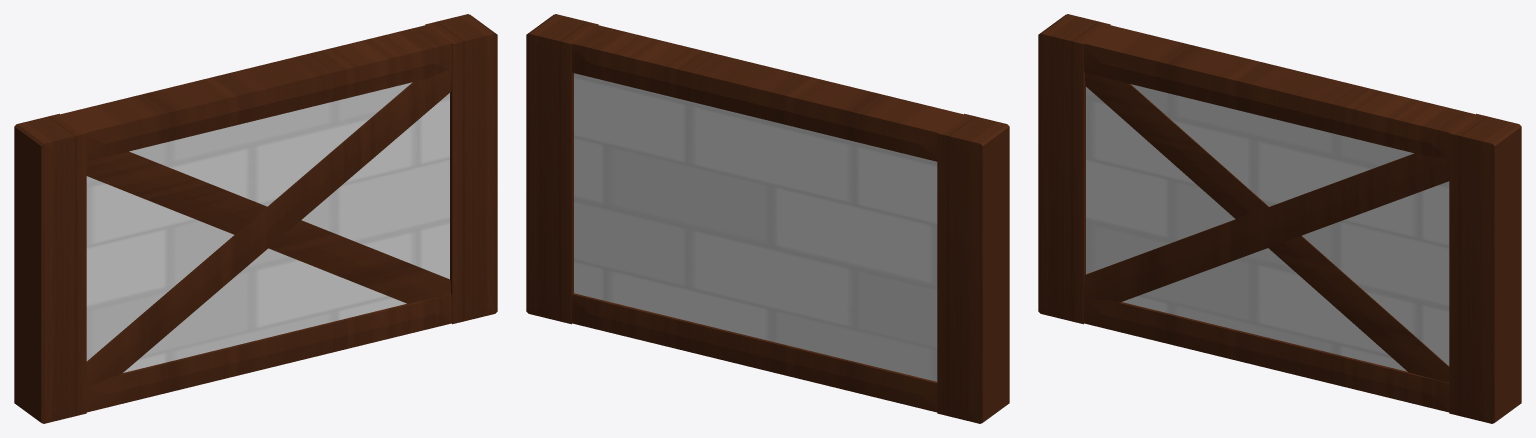
File: Half_Wall_X_Brick.fbx
3 views of the same model, side by side, from view 1: azimuth 30°, elevation 25°; view 2: azimuth 150°, elevation 25°; view 3: azimuth 330°, elevation 25° (orthographic).
Visible parts, largest first — view 1: Half_Wall_X; view 2: Half_Wall_X; view 3: Half_Wall_X.
Boxes of the visible parts, left/top/right/bottom form: Half_Wall_X: left=14, top=14, right=497, bottom=423; Half_Wall_X: left=526, top=14, right=1009, bottom=423; Half_Wall_X: left=1038, top=14, right=1521, bottom=423.
Bounding box in the file's own units: 212 × 124 × 23.4.
